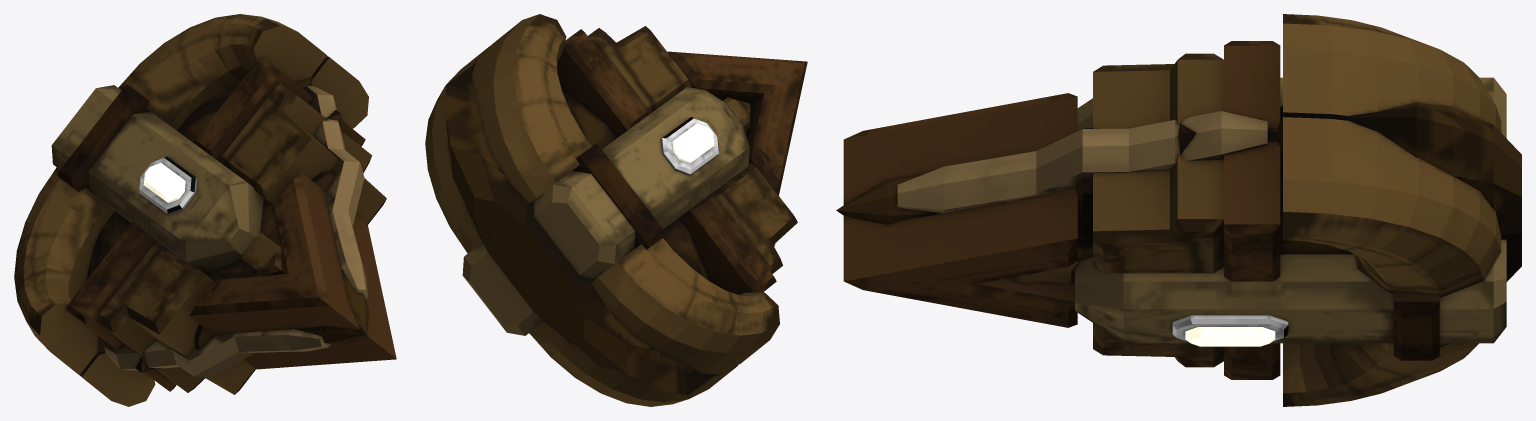
Rendered from newsh2-171-f6.glb.
3 renders of one model, left to right at view 1: azimuth 30°, elevation 25°; view 2: azimuth 150°, elevation 25°; view 3: azimuth 270°, elevation 25°, orthographic. The views are drawn at different scales.
Parts seen in each view (by area): view 1: newsh2-171-f6; view 2: newsh2-171-f6; view 3: newsh2-171-f6.
Boxes of the visible parts, box(x1,y1,x2,y2) form: newsh2-171-f6: box(14, 14, 396, 406); newsh2-171-f6: box(425, 14, 807, 406); newsh2-171-f6: box(836, 14, 1521, 406).
Size of the model in its own units: 0.8523 by 0.8523 by 1.11.
9 materials, 9 textured.
